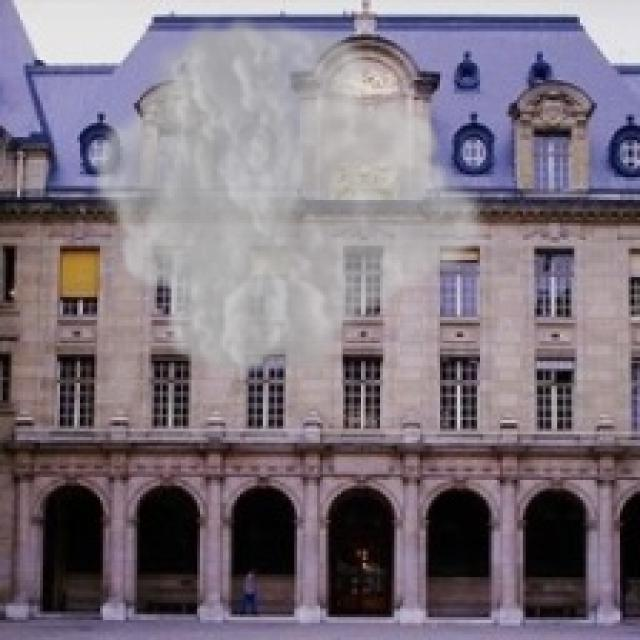Smoke: (89, 8, 492, 386)
